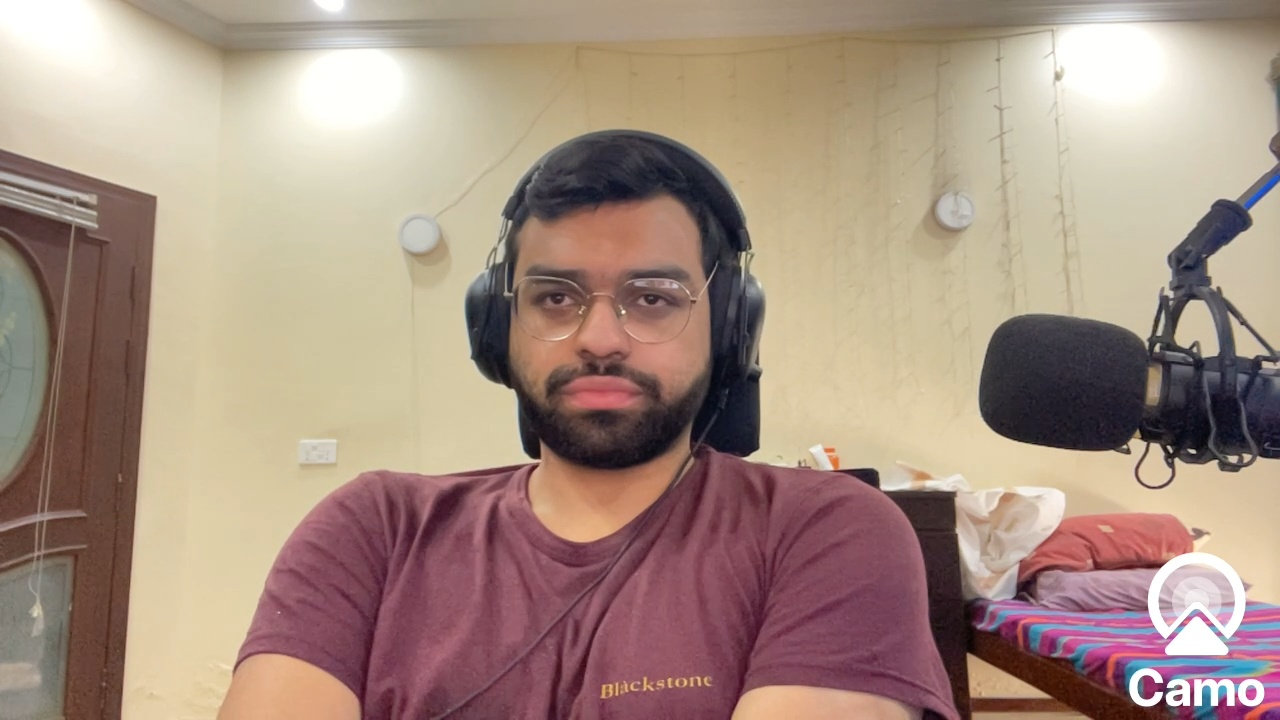neutral: (498, 179, 717, 478)
